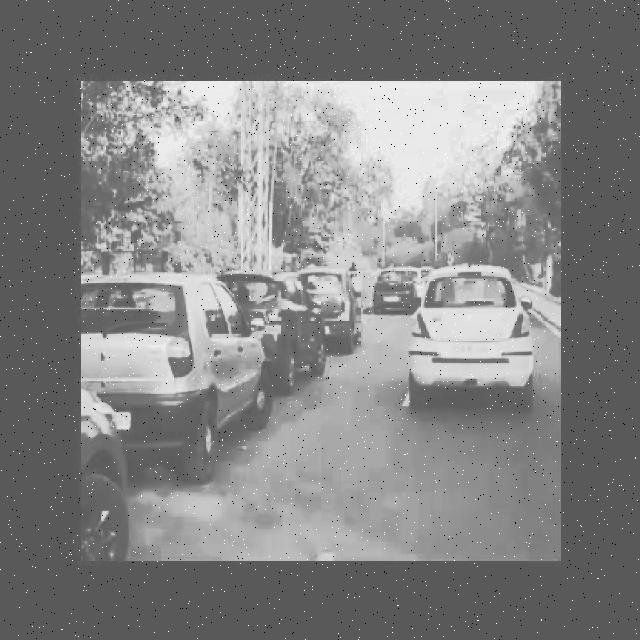Car: (82, 258, 259, 442), (409, 266, 538, 419), (248, 259, 320, 386), (309, 254, 372, 361), (374, 254, 414, 321)
